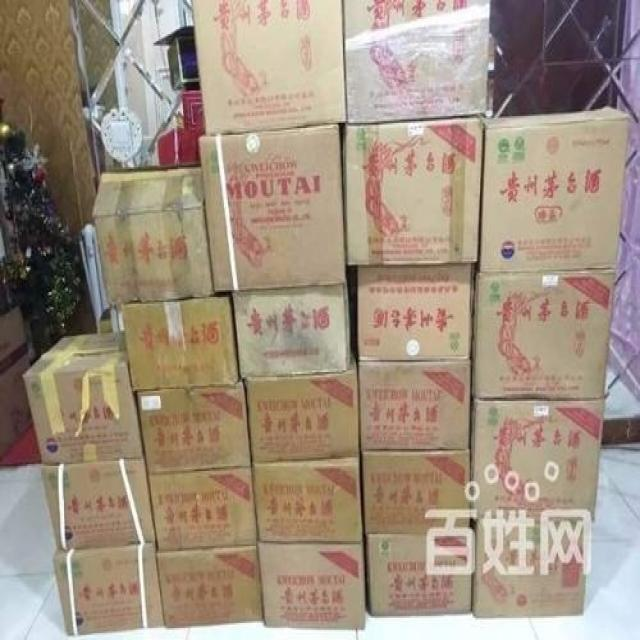box: (475, 106, 630, 273), (200, 123, 347, 294), (340, 114, 486, 266), (191, 0, 348, 137), (470, 270, 618, 399), (342, 0, 489, 123), (92, 164, 214, 305), (471, 399, 605, 524), (22, 331, 145, 466), (243, 348, 360, 464), (233, 273, 352, 379), (471, 517, 590, 620), (351, 265, 477, 362), (124, 292, 239, 391), (138, 377, 252, 474), (52, 541, 166, 637), (41, 457, 157, 551), (357, 358, 471, 449), (257, 541, 366, 631), (147, 464, 257, 553), (252, 456, 364, 543), (361, 449, 471, 534), (364, 534, 474, 616), (156, 548, 264, 630), (166, 34, 201, 92), (157, 130, 200, 166), (175, 90, 205, 133)
